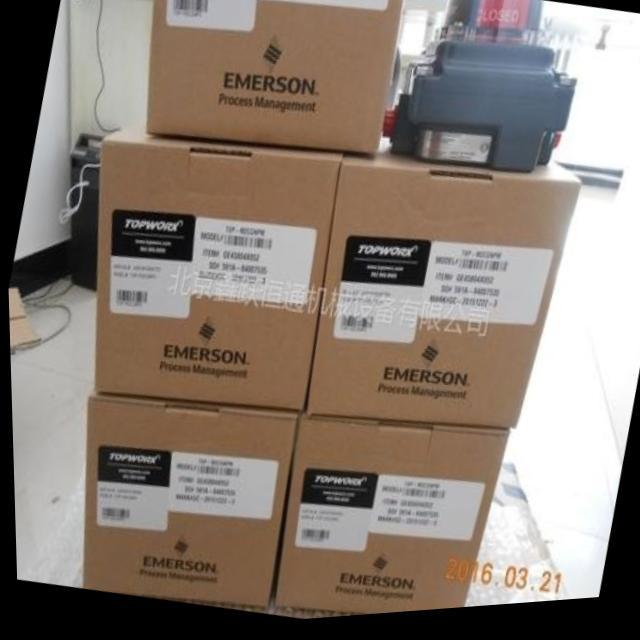box: (302, 143, 578, 435), (91, 121, 343, 415), (270, 417, 507, 620), (78, 391, 293, 610), (145, 0, 403, 160)
